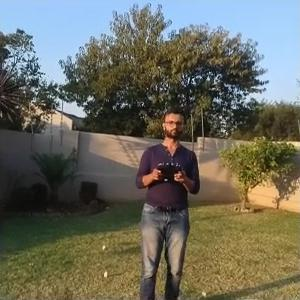follow: (127, 101, 203, 298)
